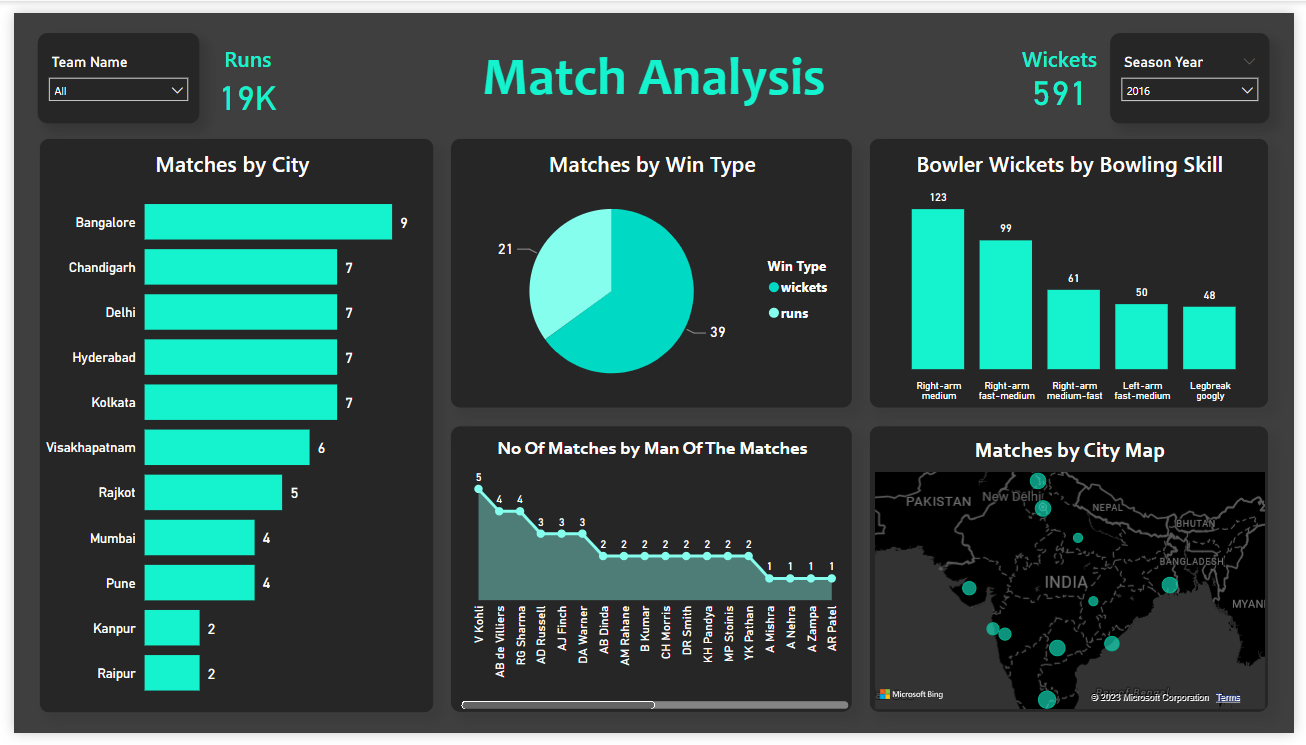

This screenshot's page, from the dashboard's own definition file:
{"tool":"powerbi","page":{"name":"Match Analysis","canvas":[1280,720],"ordinal":2},"visuals":[{"type":"barChart","title":"Matches by City","fields":{"Category":["Match.City_Name"],"Y":["Match.match_id"]},"box":[25,125,395,575],"z":0},{"type":"slicer","fields":{"Values":["Match.Season_Year"]},"box":[1096.7,20,158.9,90],"z":1000},{"type":"pieChart","title":"Matches by Win Type","fields":{"Category":["Match.Win_Type"],"Y":["Match.match_id"]},"box":[436.2,125,402.5,270],"z":2000},{"type":"stackedAreaChart","title":"No Of Matches by Man Of The Matches","fields":{"Category":["Match.ManOfMach"],"Y":["Match.match_id"]},"box":[436.2,412.5,402.5,287.5],"z":3000},{"type":"slicer","fields":{"Values":["Team.Team_Name"]},"box":[23.8,20,161.2,90],"z":4000},{"type":"columnChart","title":"Bowler Wickets by Bowling Skill","fields":{"Category":["Player_match.Bowling_skill"],"Y":["Ball_By_Ball.Bowler_Wicket"]},"box":[855,125,400,270],"z":5000},{"type":"map","title":"Matches by City Map","fields":{"Category":["Match.City_Name"],"Size":["Match.match_id"]},"box":[855,412.5,400,287.5],"z":6000},{"type":"card","title":"Runs","fields":{"Values":["Ball_By_Ball.Total Runs"]},"box":[184.4,20,97.8,90],"z":7000},{"type":"card","title":"Wickets","fields":{"Values":["Ball_By_Ball.Count Of Wickets"]},"box":[995.6,20,101.1,80],"z":8000},{"type":"textbox","box":[428.9,20,422.2,90],"z":9000}]}

Visuals, with their boxes in screenshot pixels (x1, y1, x2, y2), scaled from the page's 1280x720 canvas onto the 1306x745 screenshot:
"Matches by City" barChart: {"left": 26, "top": 129, "right": 429, "bottom": 724}
slicer - Match.Season_Year: {"left": 1119, "top": 21, "right": 1281, "bottom": 114}
"Matches by Win Type" pieChart: {"left": 445, "top": 129, "right": 856, "bottom": 409}
"No Of Matches by Man Of The Matches" stackedAreaChart: {"left": 445, "top": 427, "right": 856, "bottom": 724}
slicer - Team.Team_Name: {"left": 24, "top": 21, "right": 189, "bottom": 114}
"Bowler Wickets by Bowling Skill" columnChart: {"left": 872, "top": 129, "right": 1280, "bottom": 409}
"Matches by City Map" map: {"left": 872, "top": 427, "right": 1280, "bottom": 724}
"Runs" card: {"left": 188, "top": 21, "right": 288, "bottom": 114}
"Wickets" card: {"left": 1016, "top": 21, "right": 1119, "bottom": 103}
textbox: {"left": 438, "top": 21, "right": 868, "bottom": 114}
